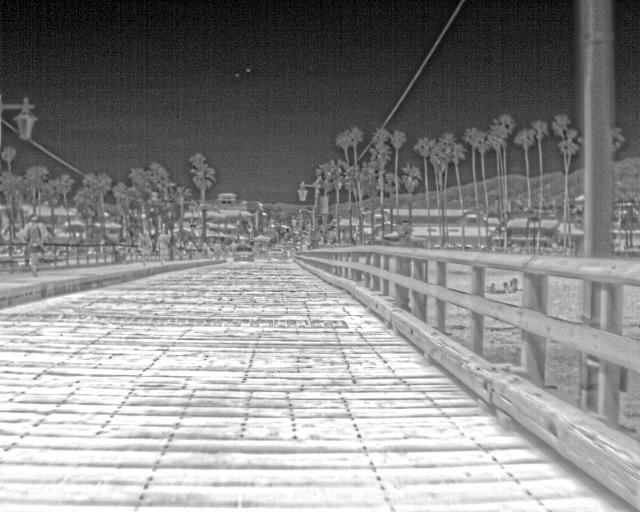bicycle: (233, 243, 257, 263), (266, 242, 287, 260)
empty: (21, 216, 41, 272), (153, 226, 169, 262), (143, 230, 158, 262)
